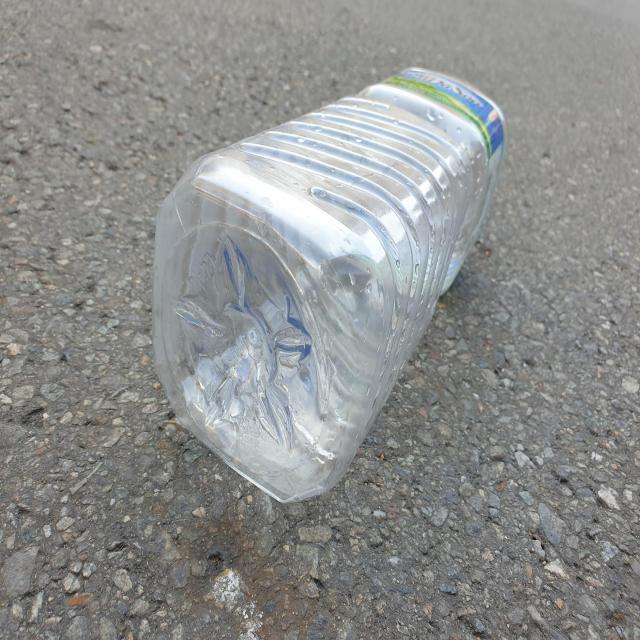plastic: (152, 67, 505, 502)
